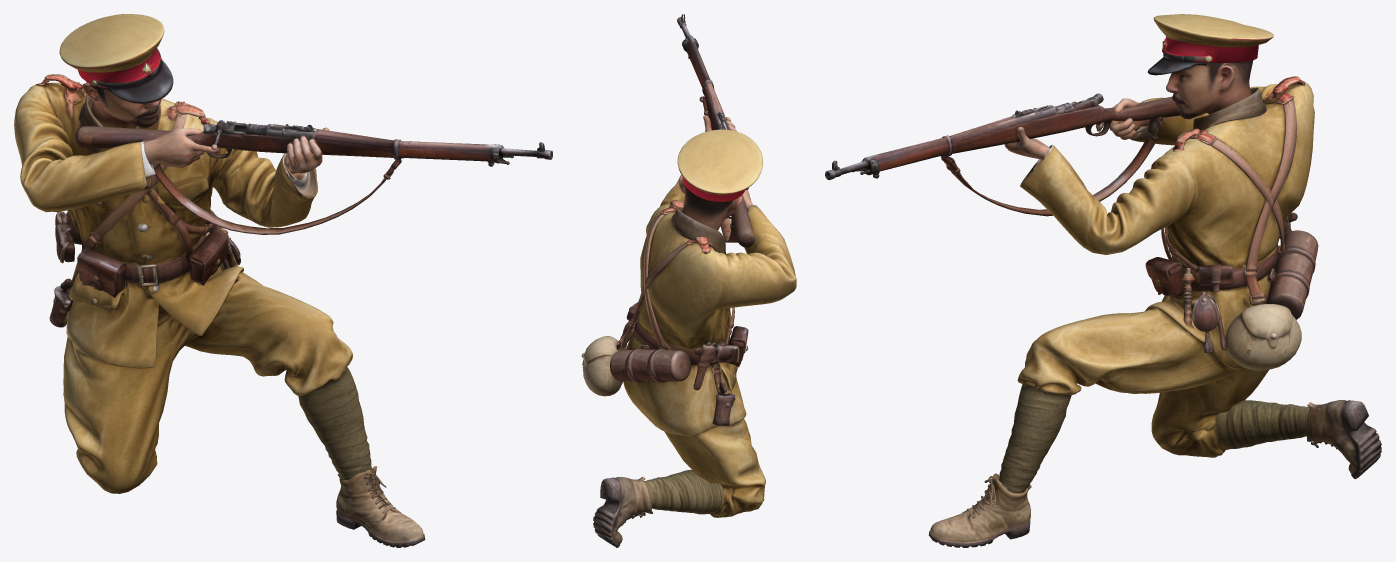
The model's file is soldier_2.glb.
3 renders of one model, left to right at view 1: azimuth 30°, elevation 25°; view 2: azimuth 150°, elevation 25°; view 3: azimuth 270°, elevation 25°, orthographic. The views are drawn at different scales.
Parts seen in each view (by area): view 1: tripo_node_82188e95-7124-4d13-9d3c-c4fdc0d98878; view 2: tripo_node_82188e95-7124-4d13-9d3c-c4fdc0d98878; view 3: tripo_node_82188e95-7124-4d13-9d3c-c4fdc0d98878.
Part boxes in pixels (left/top/right/bottom): tripo_node_82188e95-7124-4d13-9d3c-c4fdc0d98878: left=14, top=14, right=552, bottom=547; tripo_node_82188e95-7124-4d13-9d3c-c4fdc0d98878: left=581, top=14, right=796, bottom=547; tripo_node_82188e95-7124-4d13-9d3c-c4fdc0d98878: left=825, top=14, right=1381, bottom=547.
Bounding box in the file's own units: 0.689 × 0.896 × 0.9995.
1 material, 1 textured.
